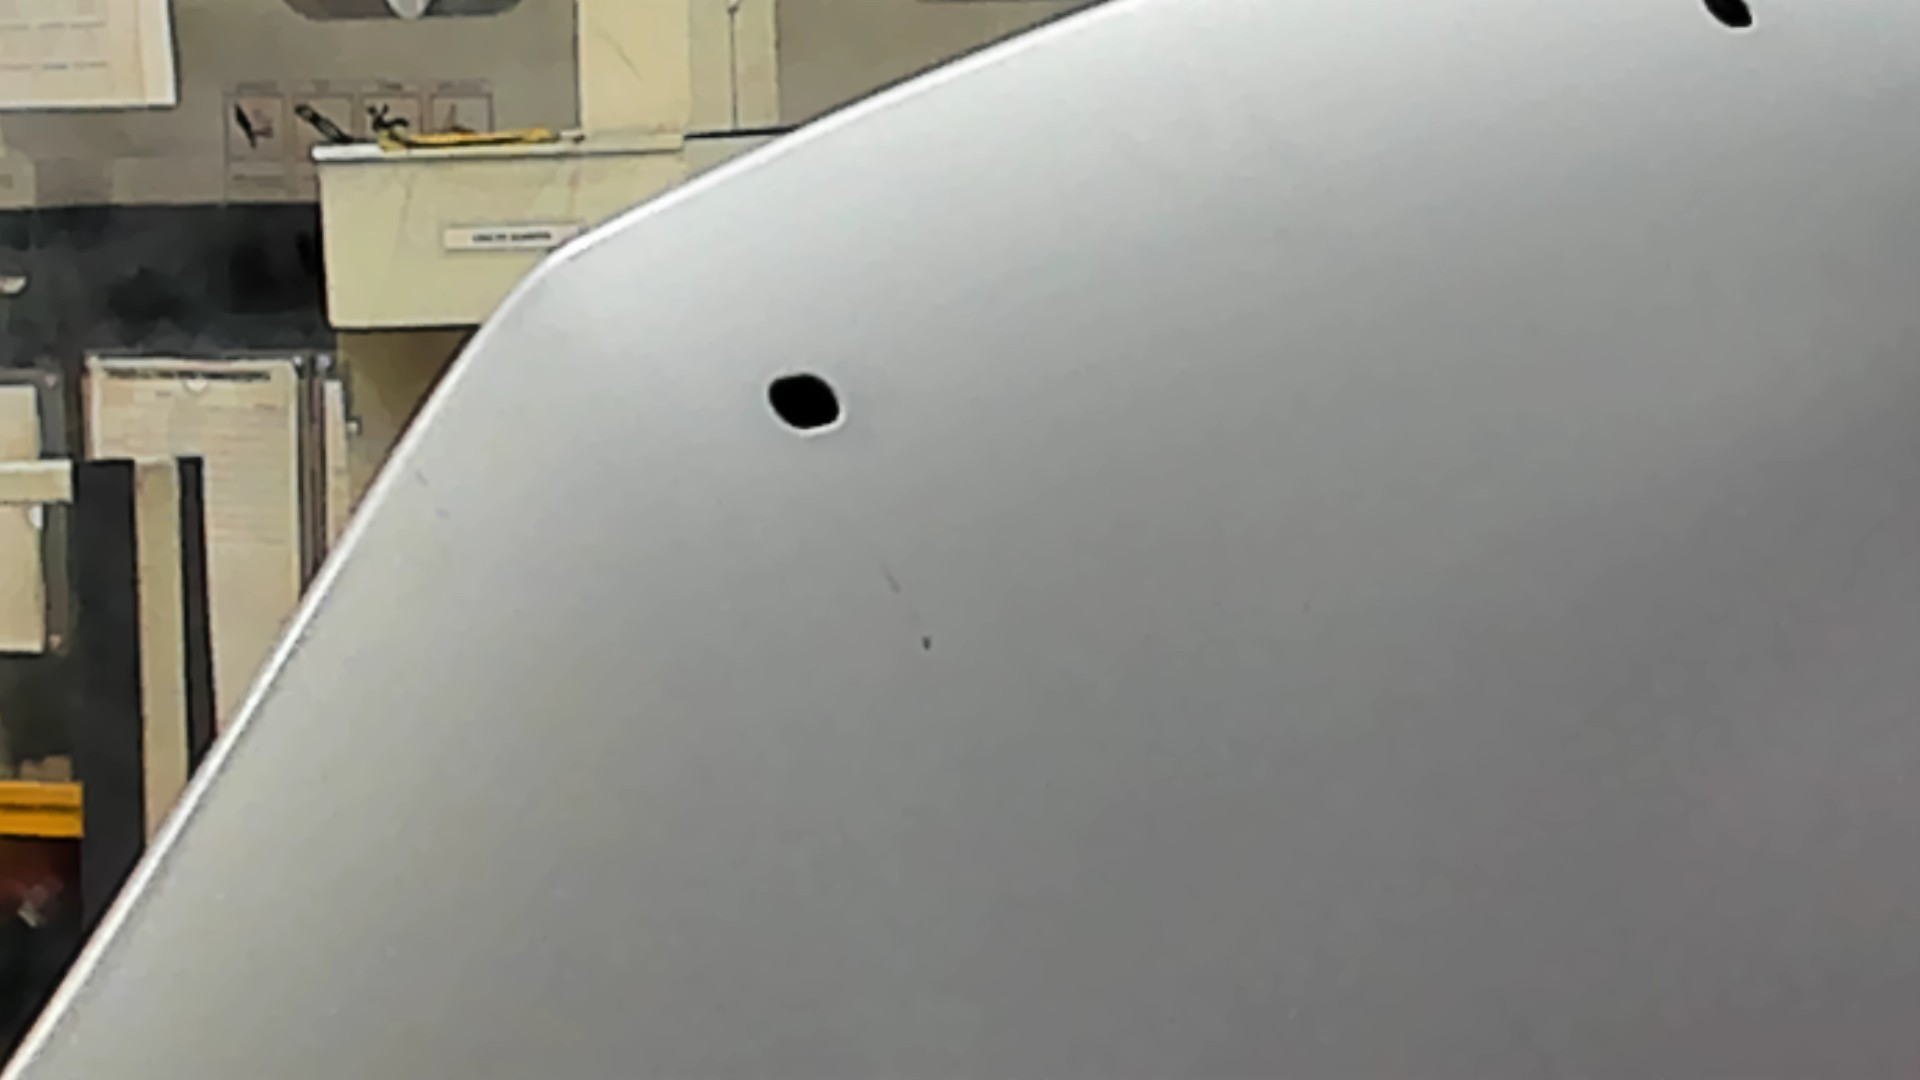Agujero: (764, 371, 849, 436), (1697, 1, 1762, 36)
